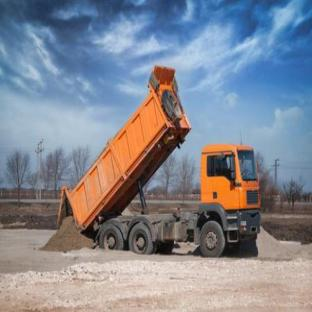Vehicle: (35, 56, 268, 259)
